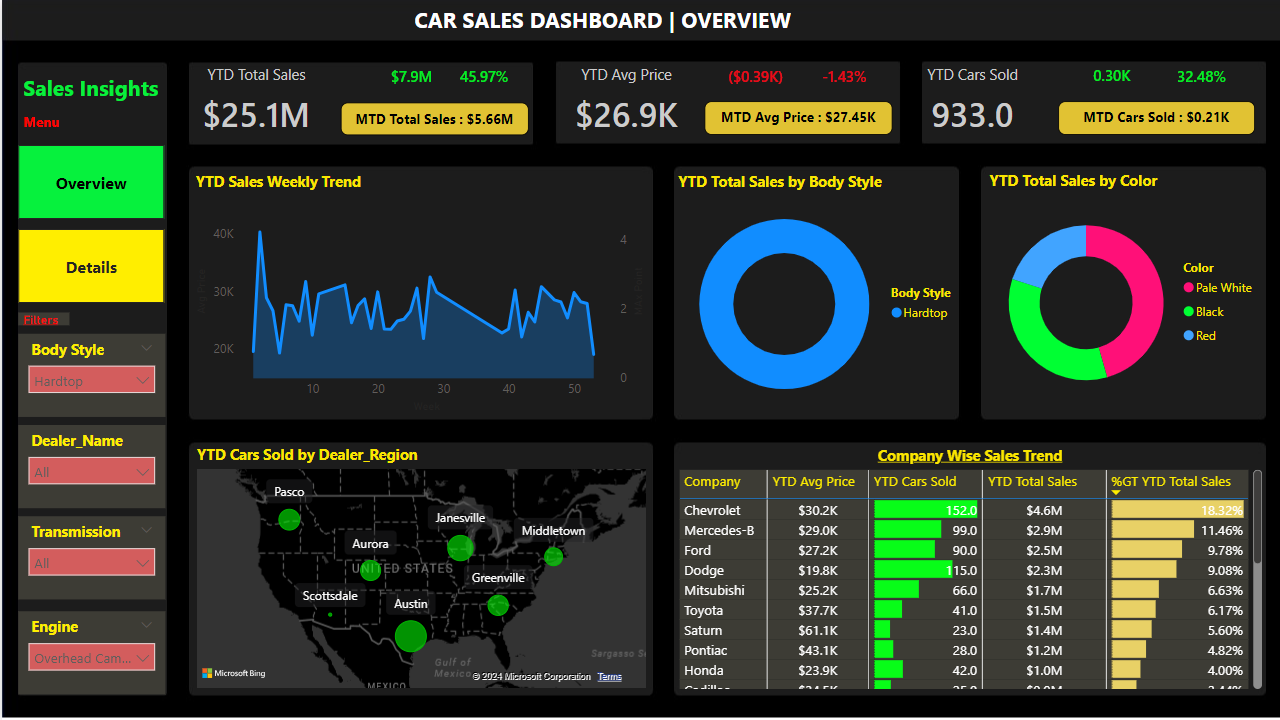

This screenshot's page, from the dashboard's own definition file:
{"tool":"powerbi","page":{"name":"Overview","canvas":[1280,720],"ordinal":0},"visuals":[{"type":"card","title":"YTD Total Sales","fields":{"Values":["car_data.YTD Total Sales"]},"box":[170.3,63.5,169,81.1],"z":0},{"type":"card","fields":{"Values":["car_data.Sales Diffrence"]},"box":[365,63.5,89.2,29.7],"z":1000},{"type":"card","fields":{"Values":["car_data.YoY Sales Growth"]},"box":[438,63.5,89.2,29.7],"z":2000},{"type":"card","fields":{"Values":["car_data.MTD KPI"]},"box":[339.3,102.7,187.9,33],"z":3000},{"type":"card","title":"YTD Avg Price","fields":{"Values":["car_data.YTD Avg Price"]},"box":[539.4,63.5,169,81.1],"z":4000},{"type":"card","fields":{"Values":["car_data.Avg Price Diff"]},"box":[708.4,63.5,89.2,29.7],"z":5000},{"type":"card","fields":{"Values":["car_data.YoY Avg Price Growth"]},"box":[797.6,63.5,89.2,29.7],"z":6000},{"type":"card","fields":{"Values":["car_data.MPd Avg Price KPI"]},"box":[703,101.4,187.9,33.8],"z":7000},{"type":"card","title":"YTD Cars Sold","fields":{"Values":["car_data.YTD Cars Sold"]},"box":[886.9,63.5,169,81.1],"z":8000},{"type":"card","fields":{"Values":["car_data.Cars Sold Diff"]},"box":[1064.4,63,89.7,30.3],"z":9000},{"type":"card","fields":{"Values":["car_data.Yoy Car Sold Growth"]},"box":[1154.5,63.5,89.2,29.7],"z":10000},{"type":"card","fields":{"Values":["car_data.MTD Cars Sold KPI"]},"box":[1056,101.8,196.4,33.9],"z":11000},{"type":"areaChart","title":"YTD Sales Weekly Trend","fields":{"Category":["Calendar Table.Week"],"Y":["car_data.Avg Price"],"Y2":["car_data.MAx Point"]},"box":[189.1,170.9,459.5,246.1],"z":12000},{"type":"donutChart","fields":{"Category":["car_data.Body Style"],"Y":["car_data.YTD Total Sales"]},"box":[671.6,170.9,299.5,246.1],"z":13000},{"type":"donutChart","fields":{"Y":["car_data.YTD Total Sales"],"Category":["car_data.Color"]},"box":[982.9,170.3,281.6,246],"z":14000},{"type":"map","fields":{"Category":["car_data.Dealer_Region"],"Size":["car_data.YTD Cars Sold"]},"box":[189.5,444.2,459.3,248.8],"z":15000},{"type":"tableEx","title":"Company Wise Sales Trend","fields":{"Values":["car_data.Company","car_data.YTD Avg Price","car_data.YTD Cars Sold","car_data.YTD Total Sales1","car_data.YTD Total Sales"]},"box":[671.3,444.7,593.6,248.9],"z":16000},{"type":"textbox","box":[407,0,401.2,40.7],"z":17000},{"type":"slicer","fields":{"Values":["car_data.Body Style"]},"box":[16,334,146.8,83],"z":18000},{"type":"slicer","fields":{"Values":["car_data.Dealer_Name"]},"box":[16,425.5,146.8,83],"z":19000},{"type":"slicer","fields":{"Values":["car_data.Transmission"]},"box":[16,516,146.8,83],"z":20000},{"type":"slicer","fields":{"Values":["car_data.Engine"]},"box":[16,610.6,146.8,83],"z":21000},{"type":"textbox","title":"Filters","box":[16,312.8,51.1,12.8],"z":22000},{"type":"pageNavigator","box":[16.2,145,146.2,158.8],"z":23000},{"type":"textbox","title":"Sales Insights","box":[16.2,72.5,146.2,31.2],"z":24000},{"type":"textbox","title":"Menu","box":[16.2,112.5,103.8,22.5],"z":25000}]}

Visuals, with their boxes in screenshot pixels (x1, y1, x2, y2), scaled from the page's 1280x720 canvas onto the 1280x720 screenshot:
"YTD Total Sales" card: left=170, top=64, right=339, bottom=145
card - car_data.Sales Diffrence: left=365, top=64, right=454, bottom=93
card - car_data.YoY Sales Growth: left=438, top=64, right=527, bottom=93
card - car_data.MTD KPI: left=339, top=103, right=527, bottom=136
"YTD Avg Price" card: left=539, top=64, right=708, bottom=145
card - car_data.Avg Price Diff: left=708, top=64, right=798, bottom=93
card - car_data.YoY Avg Price Growth: left=798, top=64, right=887, bottom=93
card - car_data.MPd Avg Price KPI: left=703, top=101, right=891, bottom=135
"YTD Cars Sold" card: left=887, top=64, right=1056, bottom=145
card - car_data.Cars Sold Diff: left=1064, top=63, right=1154, bottom=93
card - car_data.Yoy Car Sold Growth: left=1154, top=64, right=1244, bottom=93
card - car_data.MTD Cars Sold KPI: left=1056, top=102, right=1252, bottom=136
"YTD Sales Weekly Trend" areaChart: left=189, top=171, right=649, bottom=417
donutChart - car_data.Body Style x car_data.YTD Total Sales: left=672, top=171, right=971, bottom=417
donutChart - car_data.YTD Total Sales x car_data.Color: left=983, top=170, right=1264, bottom=416
map - car_data.Dealer_Region x car_data.YTD Cars Sold: left=190, top=444, right=649, bottom=693
"Company Wise Sales Trend" tableEx: left=671, top=445, right=1265, bottom=694
textbox: left=407, top=0, right=808, bottom=41
slicer - car_data.Body Style: left=16, top=334, right=163, bottom=417
slicer - car_data.Dealer_Name: left=16, top=426, right=163, bottom=508
slicer - car_data.Transmission: left=16, top=516, right=163, bottom=599
slicer - car_data.Engine: left=16, top=611, right=163, bottom=694
"Filters" textbox: left=16, top=313, right=67, bottom=326
pageNavigator: left=16, top=145, right=162, bottom=304
"Sales Insights" textbox: left=16, top=72, right=162, bottom=104
"Menu" textbox: left=16, top=112, right=120, bottom=135
